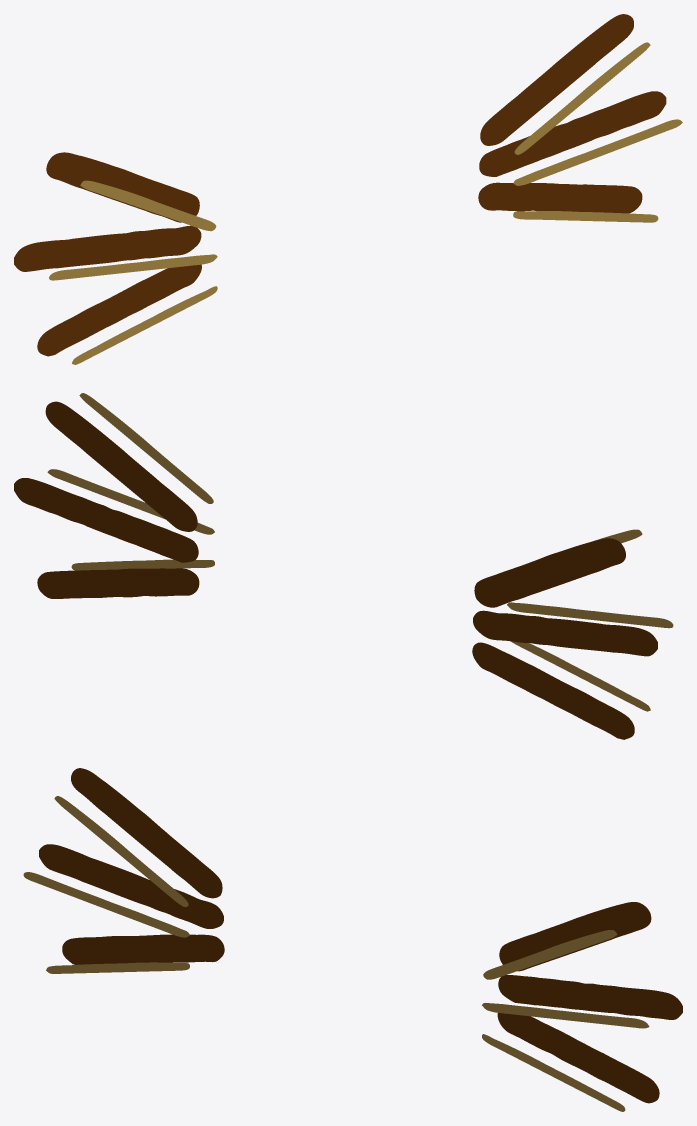
File: 085_whisker.gltf
The picture shows the model from 3 angles, top to bottom: view 1: azimuth 30°, elevation 25°; view 2: azimuth 150°, elevation 25°; view 3: azimuth 330°, elevation 25°; orthographic projection.
Parts seen in each view (by area): view 1: Curve.005, Curve, Curve.004, Curve.009, Curve.010, Curve.001, Curve.007, Curve.006, Curve.003, Curve.002, Curve.012, Curve.011; view 2: Curve.005, Curve.004, Curve, Curve.001, Curve.010, Curve.009, Curve.007, Curve.002, Curve.012, Curve.011, Curve.006; view 3: Curve.004, Curve.005, Curve.001, Curve.010, Curve.009, Curve, Curve.006, Curve.007, Curve.003, Curve.002, Curve.012, Curve.011.
Part boxes in pixels (x1=…): Curve.005: x1=14, y1=225, x2=201, y2=271; Curve: x1=480, y1=14, x2=633, y2=145; Curve.004: x1=479, y1=91, x2=666, y2=176; Curve.009: x1=478, y1=182, x2=642, y2=213; Curve.010: x1=37, y1=264, x2=201, y2=356; Curve.001: x1=46, y1=152, x2=199, y2=222; Curve.007: x1=49, y1=254, x2=217, y2=280; Curve.006: x1=513, y1=119, x2=682, y2=185; Curve.003: x1=80, y1=180, x2=216, y2=231; Curve.002: x1=514, y1=42, x2=650, y2=154; Curve.012: x1=72, y1=286, x2=217, y2=364; Curve.011: x1=513, y1=211, x2=658, y2=222; Curve.005: x1=473, y1=610, x2=657, y2=656; Curve.004: x1=14, y1=478, x2=198, y2=562; Curve: x1=45, y1=401, x2=197, y2=531; Curve.001: x1=474, y1=538, x2=625, y2=607; Curve.010: x1=472, y1=642, x2=634, y2=739; Curve.009: x1=37, y1=568, x2=199, y2=598; Curve.007: x1=507, y1=602, x2=673, y2=628; Curve.002: x1=79, y1=393, x2=213, y2=503; Curve.012: x1=511, y1=641, x2=650, y2=711; Curve.011: x1=71, y1=559, x2=214, y2=570; Curve.006: x1=47, y1=469, x2=214, y2=534; Curve.004: x1=498, y1=975, x2=682, y2=1019; Curve.005: x1=39, y1=844, x2=223, y2=928; Curve.001: x1=71, y1=768, x2=222, y2=898; Curve.010: x1=62, y1=934, x2=224, y2=964; Curve.009: x1=497, y1=1013, x2=659, y2=1103; Curve: x1=499, y1=902, x2=651, y2=971; Curve.006: x1=482, y1=1003, x2=649, y2=1028; Curve.007: x1=23, y1=872, x2=189, y2=937; Curve.003: x1=54, y1=796, x2=188, y2=907; Curve.002: x1=483, y1=930, x2=617, y2=979; Curve.012: x1=46, y1=962, x2=189, y2=973; Curve.011: x1=482, y1=1034, x2=625, y2=1111.
Bounding box in the file's own units: 0.1486 × 0.0441 × 0.01.
